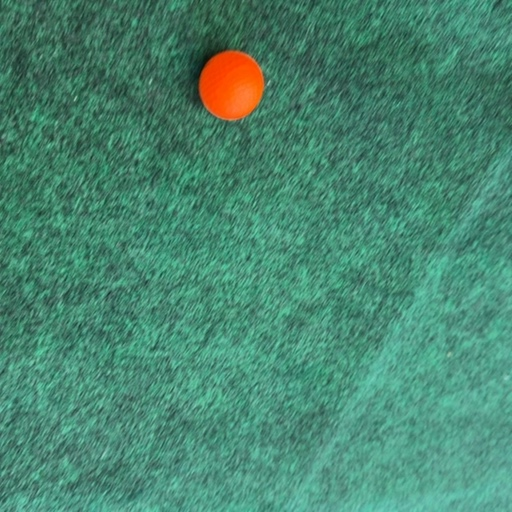Ball: (198, 51, 264, 121)
